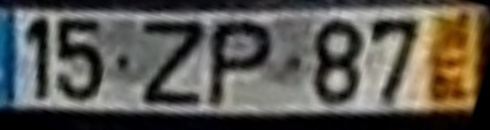1: (21, 16, 52, 106)
5: (52, 16, 109, 109)
7: (369, 19, 424, 110)
8: (311, 17, 367, 109)
P: (208, 19, 279, 112)
Z: (136, 20, 209, 111)
